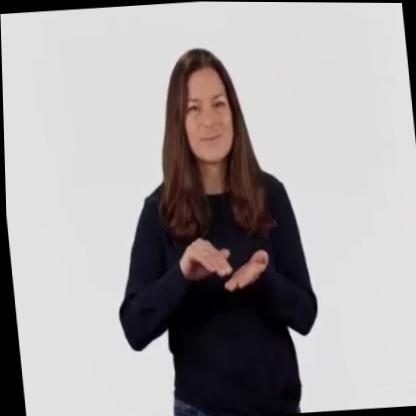ExcuseMe: (152, 203, 268, 310)
